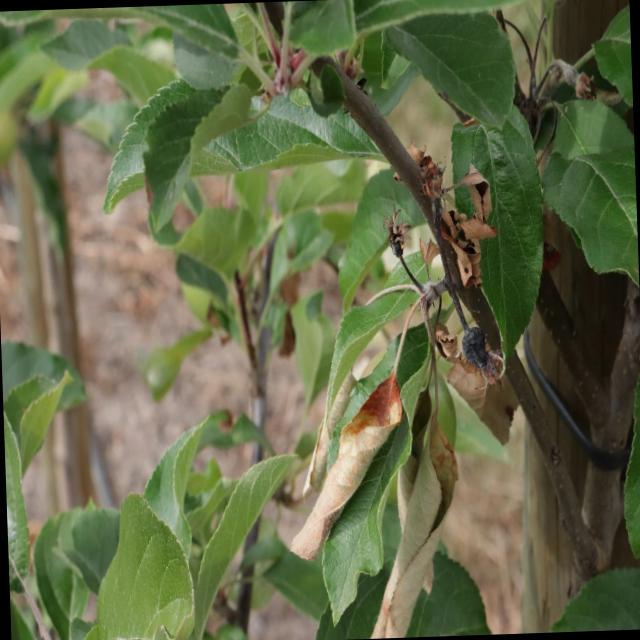-FireBlight-: (278, 149, 529, 638)
